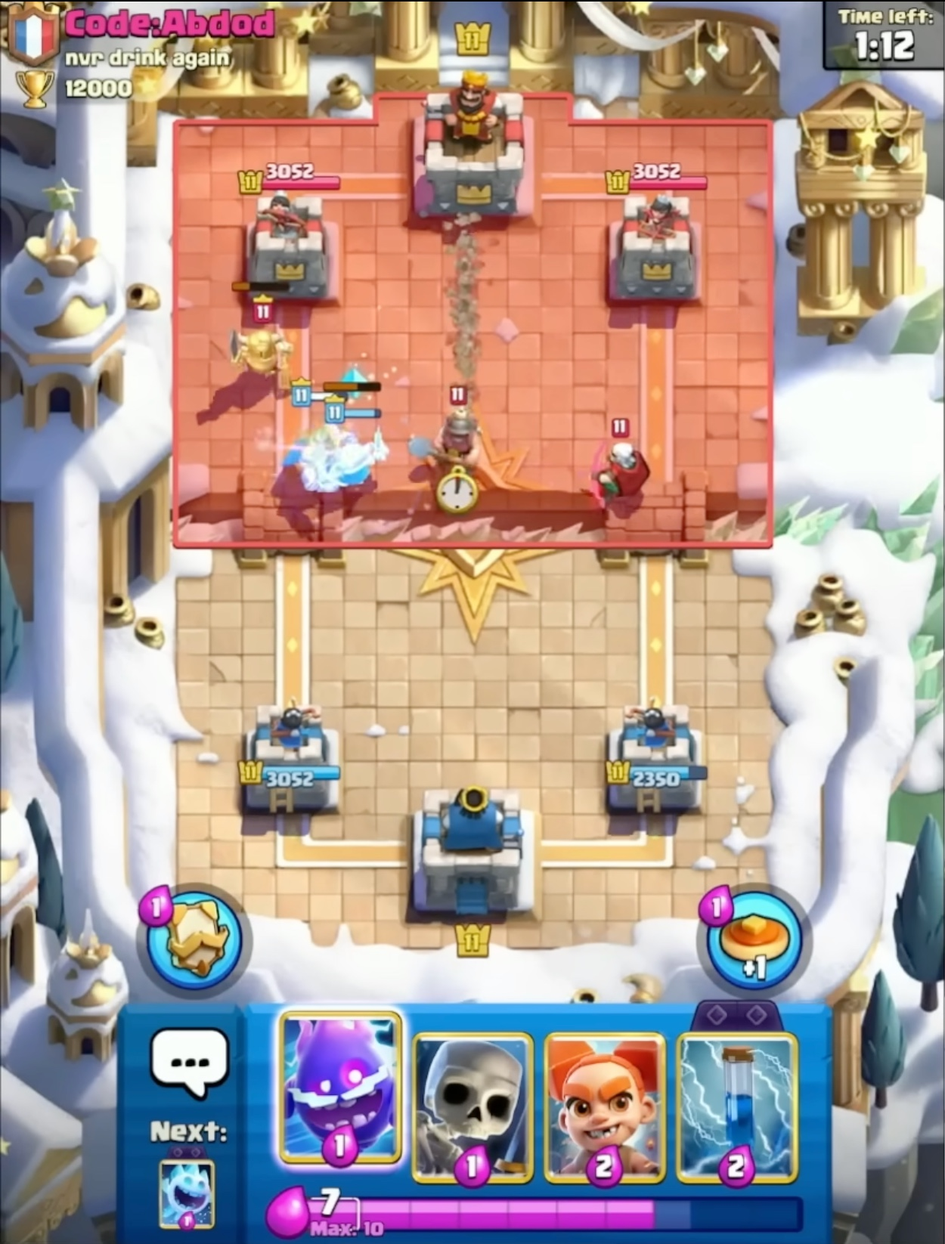miner: (410, 379, 491, 513), (571, 407, 654, 514)
